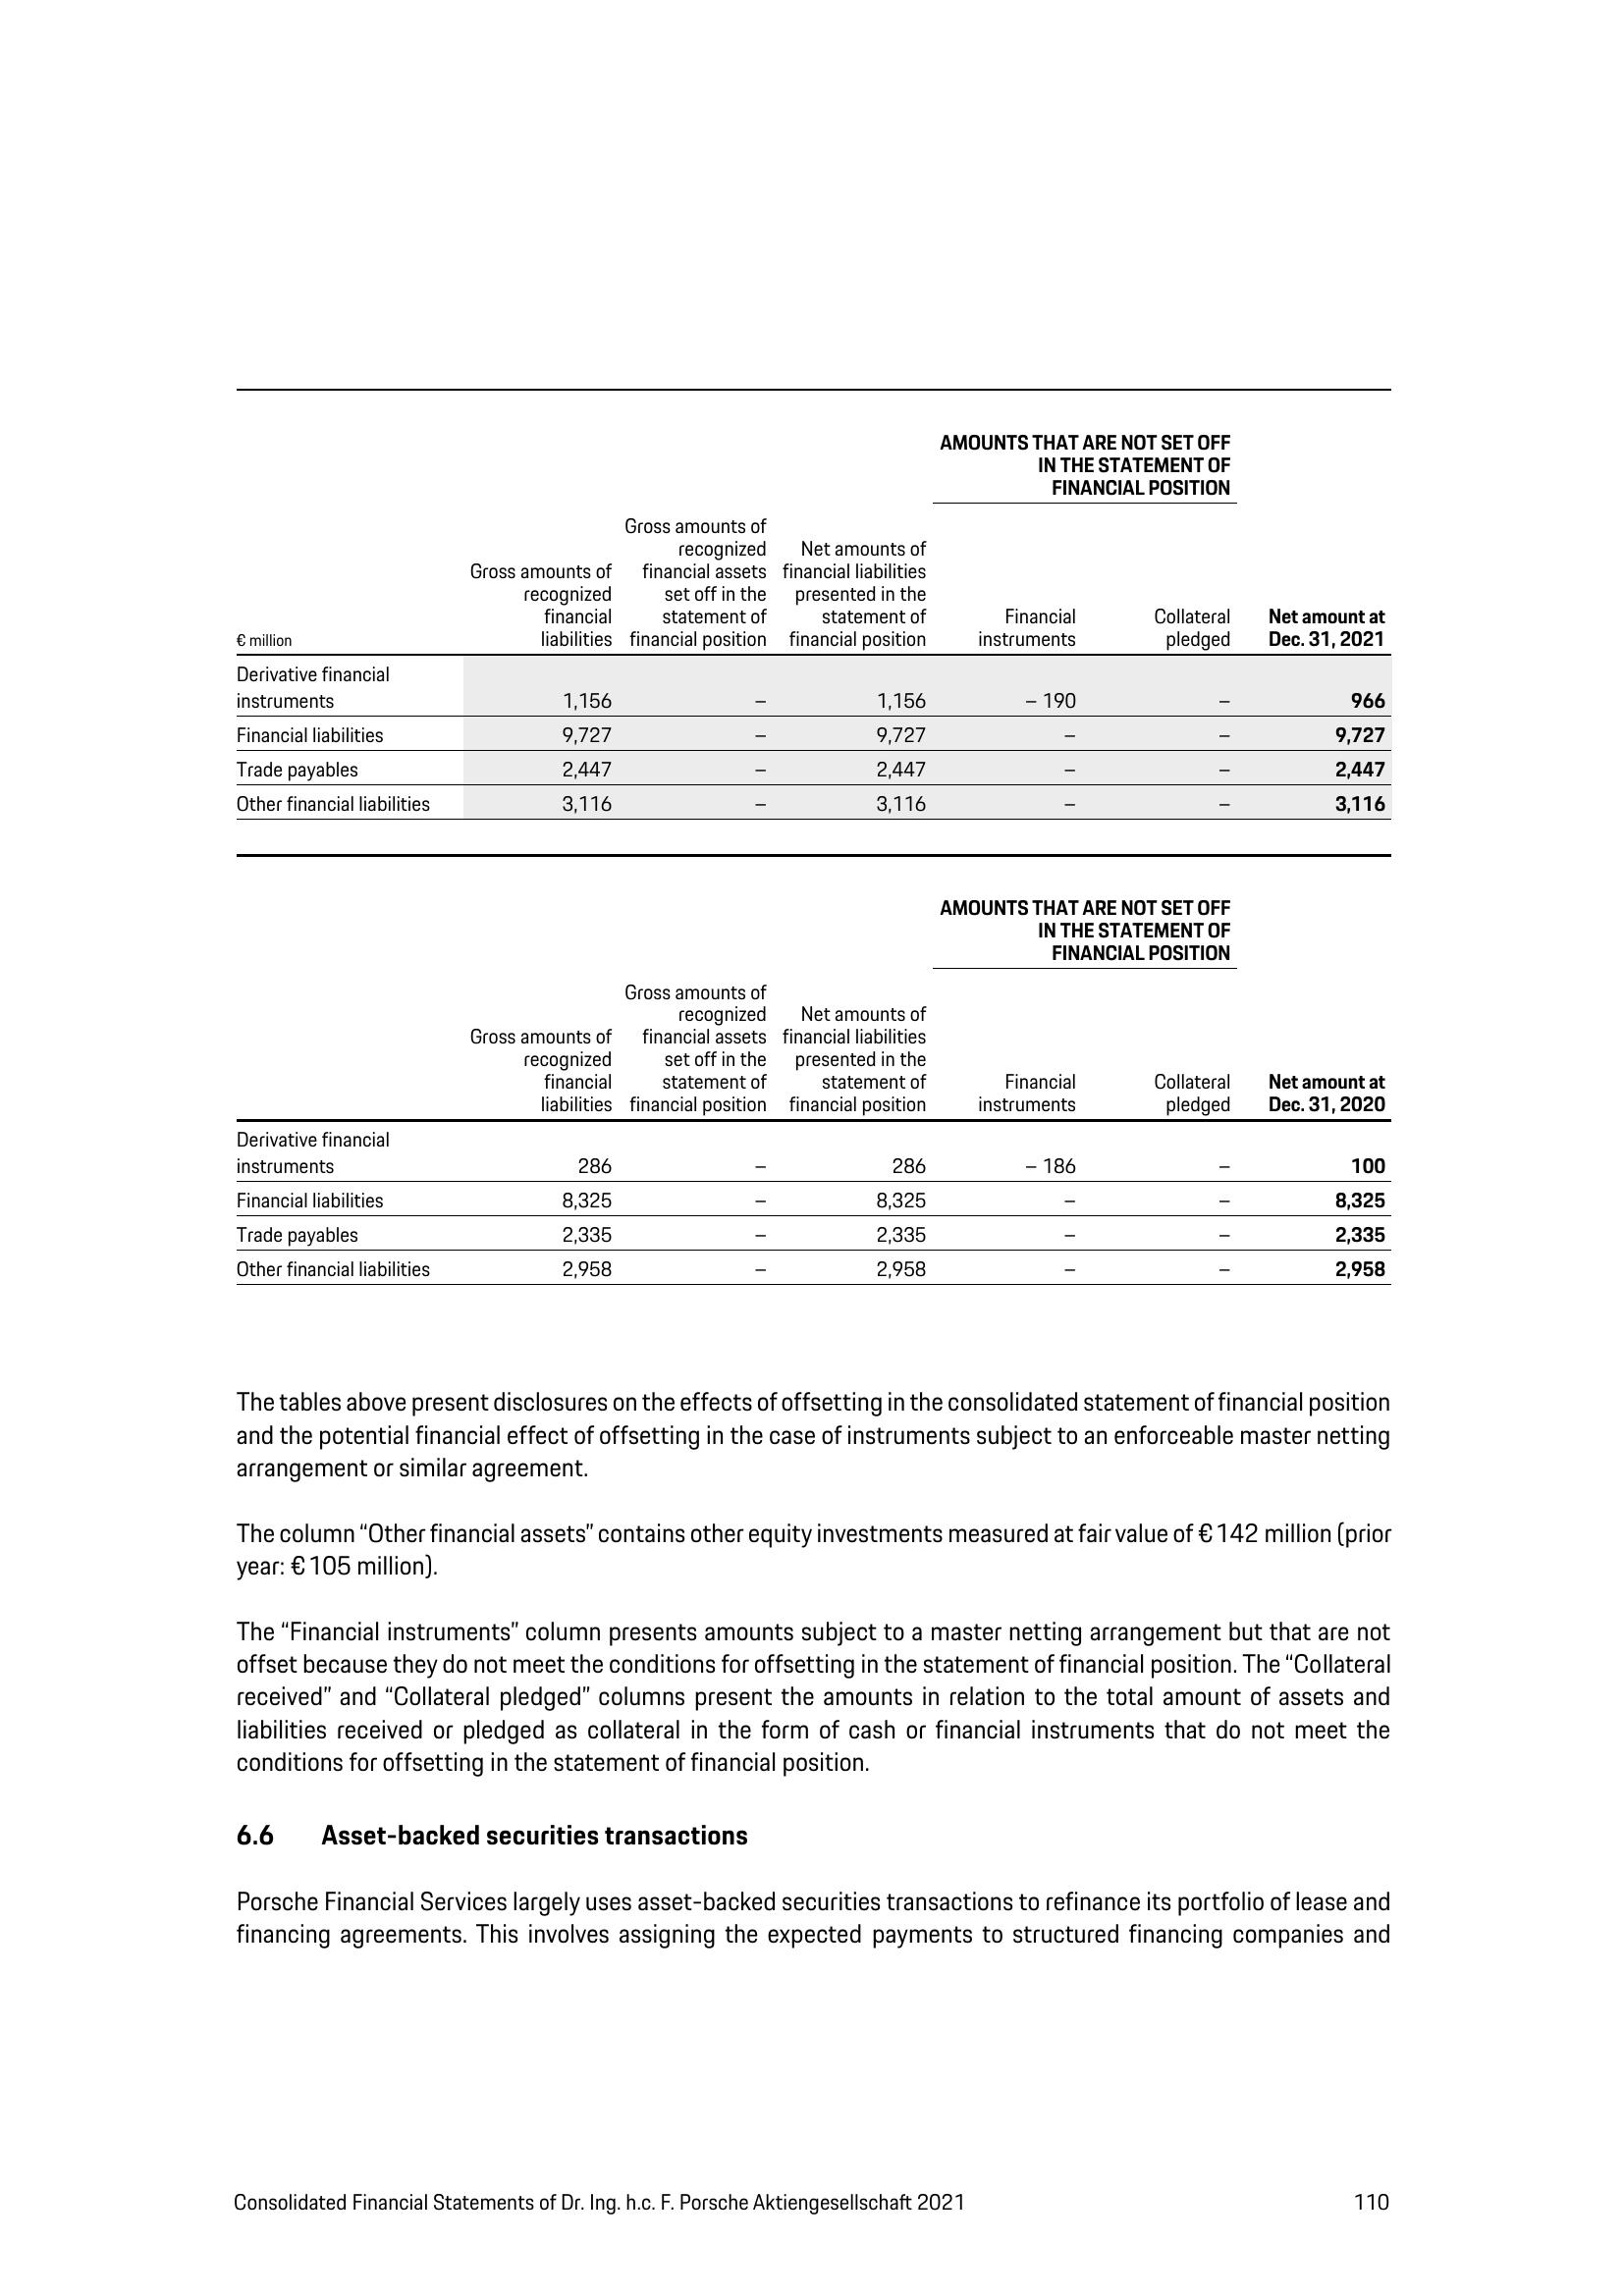Footer: (0, 2166, 1624, 2296)
Header: (0, 0, 1624, 232)
Table: (181, 385, 1443, 841), (195, 882, 1443, 1330)
